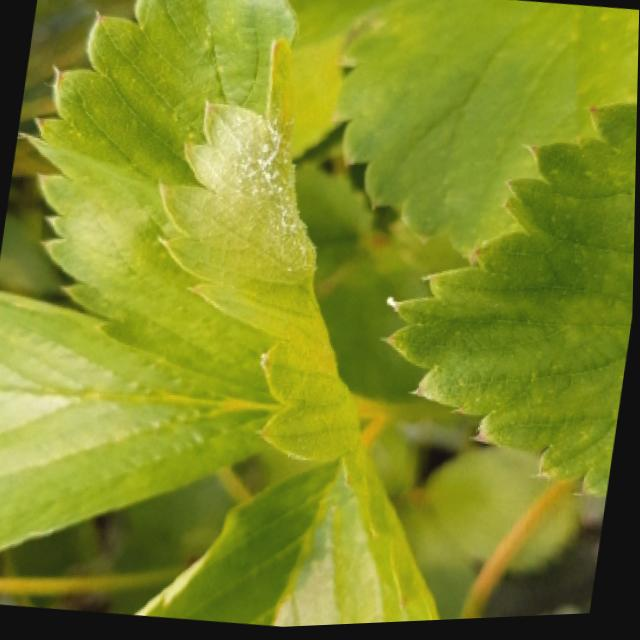Powdery Mildew Leaf: (19, 0, 365, 492)
